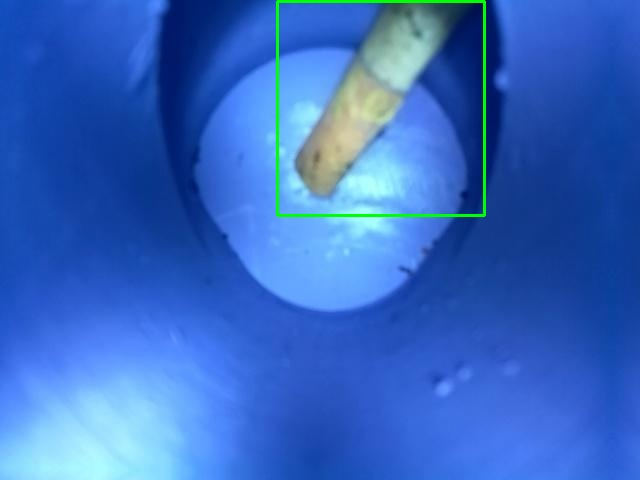megot: (277, 1, 484, 215)
